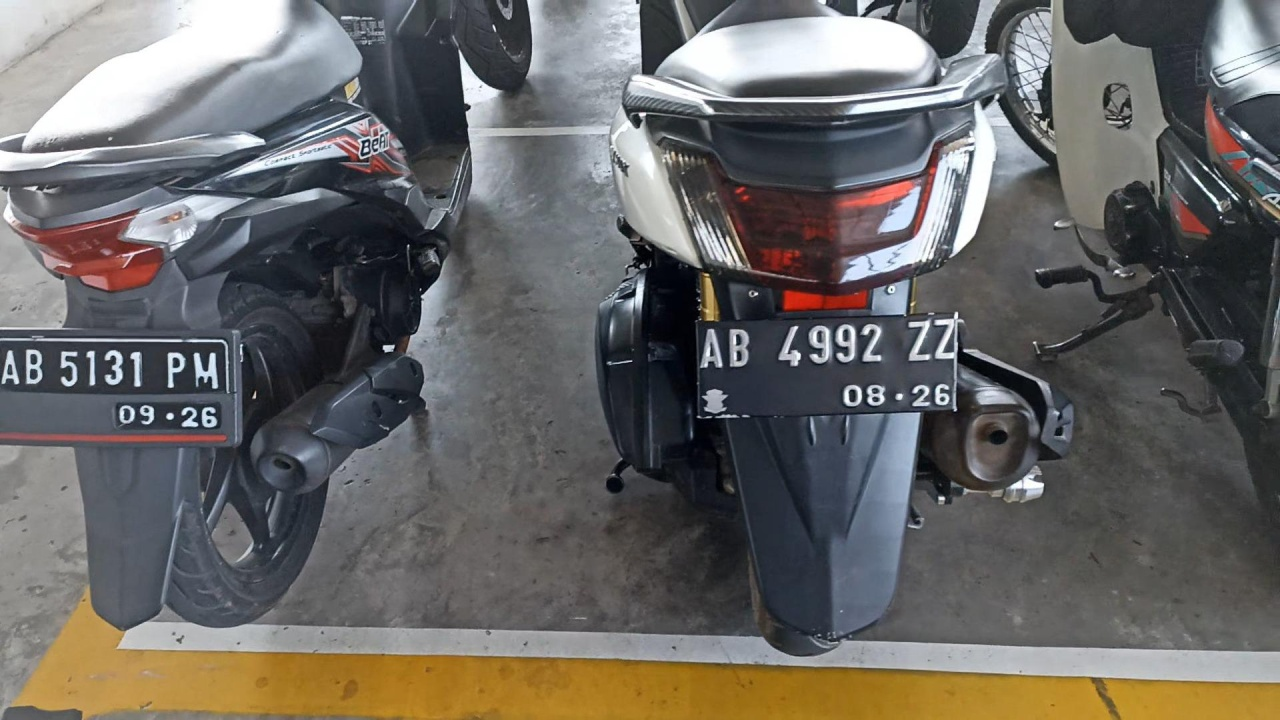plate: (698, 314, 956, 417), (0, 334, 237, 442)
